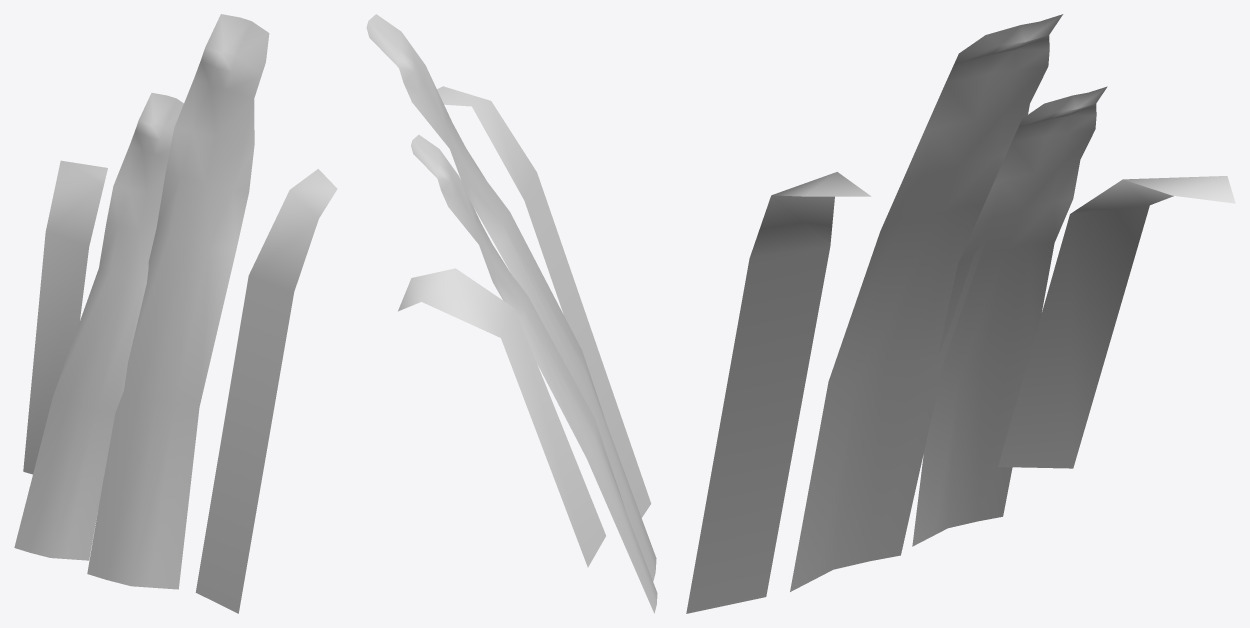
File: xl_liushui_3.FBX
The picture shows the model from 3 angles, left to right: view 1: azimuth 30°, elevation 25°; view 2: azimuth 150°, elevation 25°; view 3: azimuth 270°, elevation 25°; orthographic projection. The views are drawn at different scales.
Parts seen in each view (by area): view 1: xl_liushui_3; view 2: xl_liushui_3; view 3: xl_liushui_3.
Part boxes in pixels (x1,y1,x2,y2): xl_liushui_3: (14,14,337,613); xl_liushui_3: (366,14,657,613); xl_liushui_3: (686,14,1235,613).
Bounding box in the file's own units: 4588 × 8075 × 5917.
